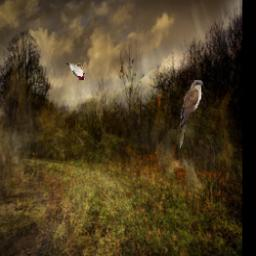Cuckoo: (179, 81, 203, 149)
Woodpecker: (64, 63, 87, 81)
